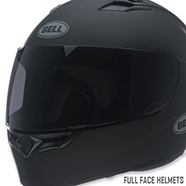with_helmet: (2, 1, 186, 184)
